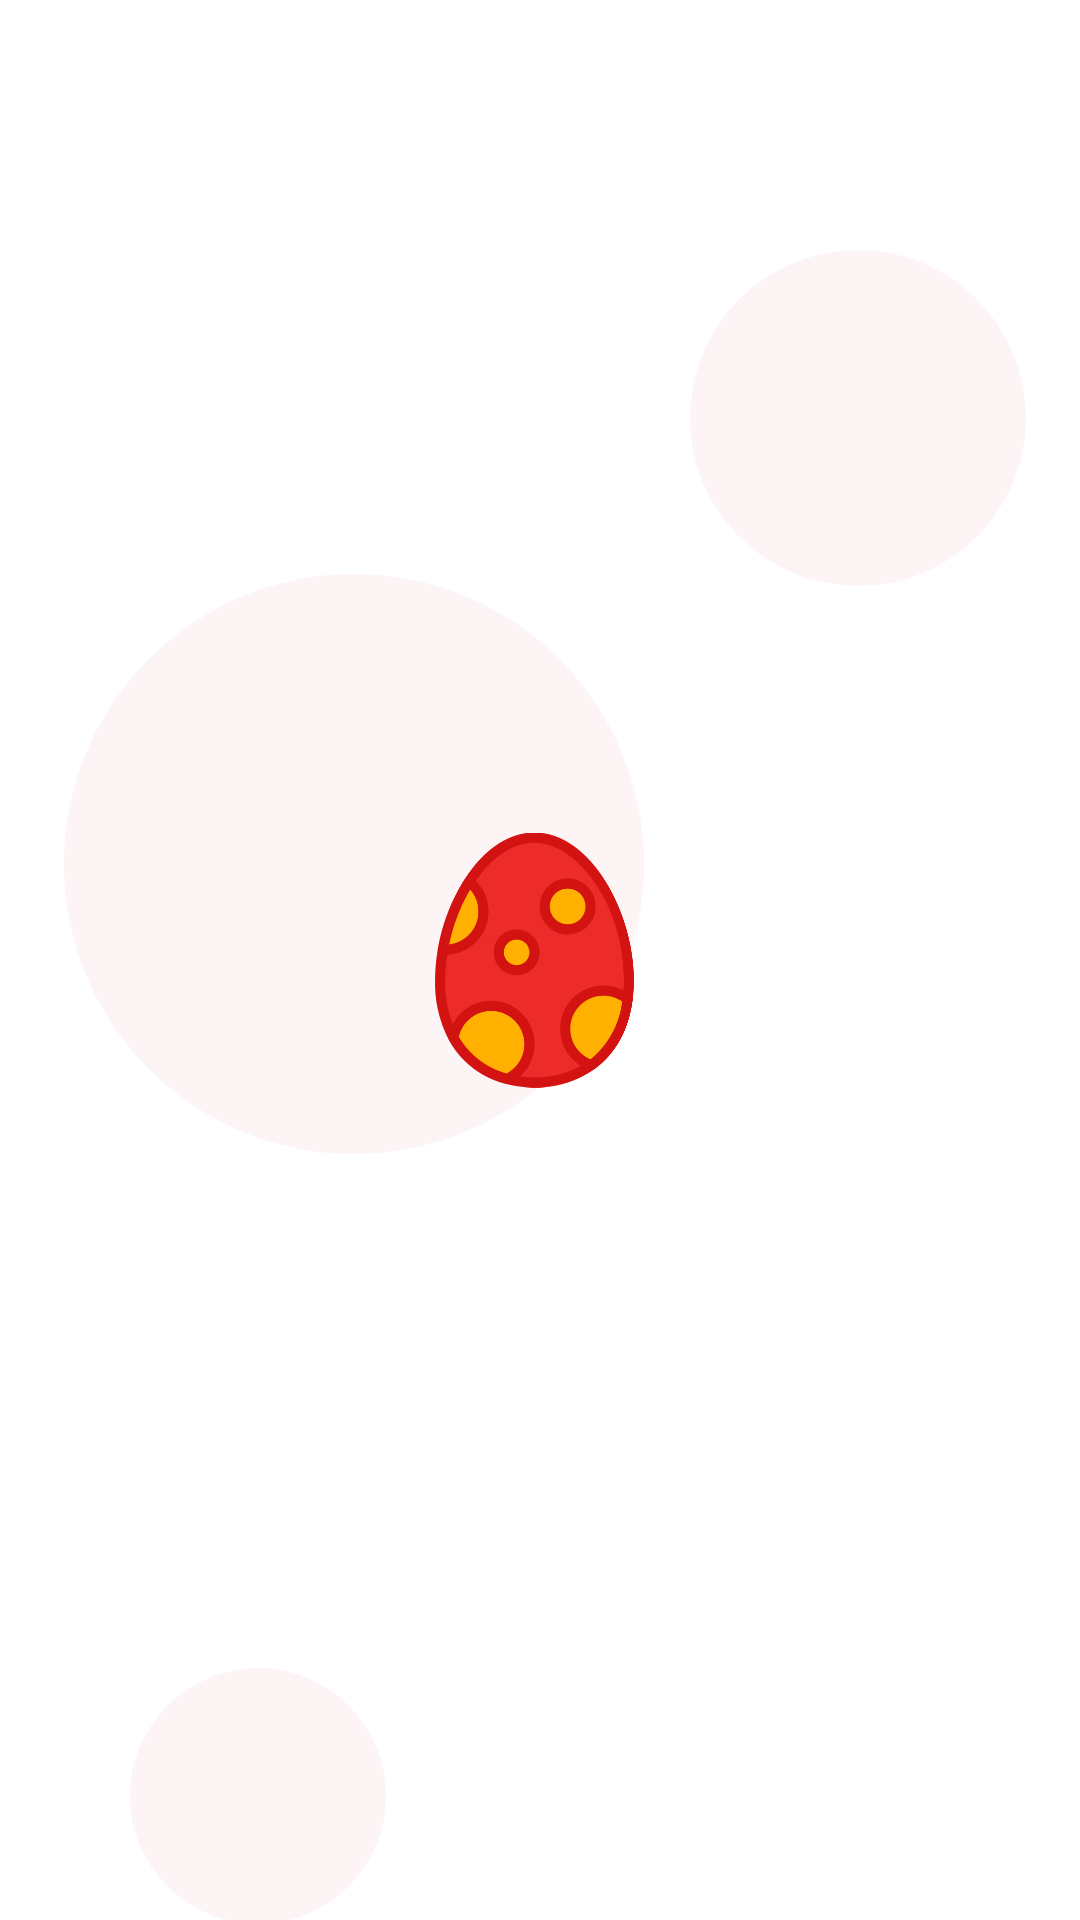

Where to tap for icons on this 1080w x 1920h app screen, as (x,y):
egg: (534,960)
